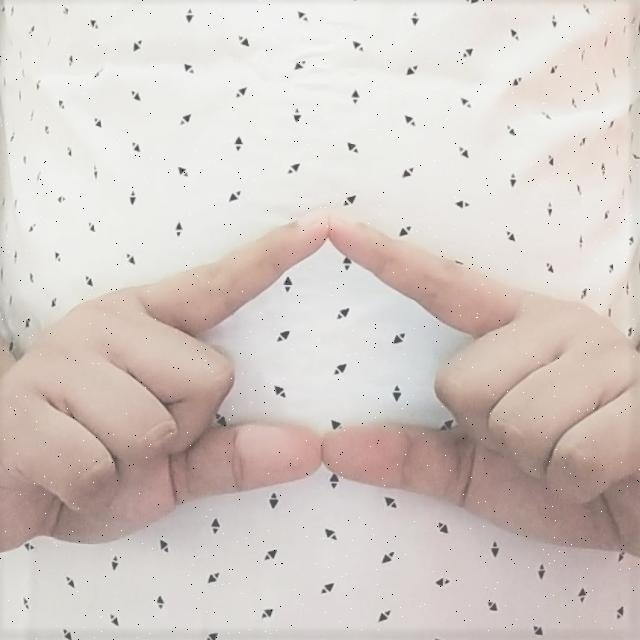A: (206, 245, 467, 431)
